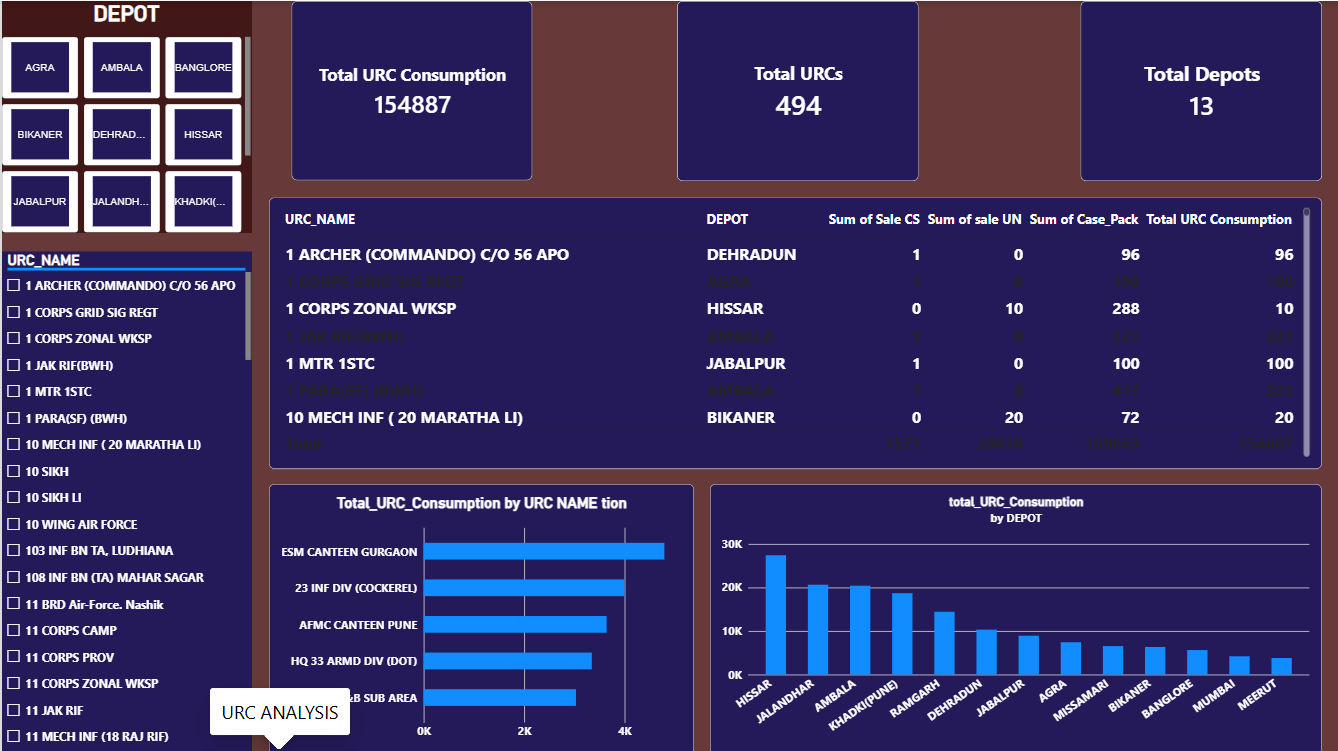

This screenshot's page, from the dashboard's own definition file:
{"tool":"powerbi","page":{"name":"URC ANALYSIS","canvas":[1920,1080],"ordinal":1},"visuals":[{"type":"clusteredBarChart","title":"Total_URC_Consumption by URC NAME tion","fields":{"Category":["URC_Distribution_Data.URC_NAME"],"Y":["URC_Distribution_Data.total_URC_Consumption"]},"box":[381.6,692.7,608.7,388.4],"z":0},{"type":"clusteredColumnChart","fields":{"Category":["URC_Distribution_Data.DEPOT"],"Y":["URC_Distribution_Data.total_URC_Consumption"]},"box":[1014.8,691.7,875.9,388.3],"z":1},{"type":"cardVisual","fields":{"Data":["URC_Distribution_Data.Total URC Consumption"]},"box":[413.9,0,345.8,258],"z":2},{"type":"cardVisual","fields":{"Data":["URC_Distribution_Data.Total URCs"]},"box":[966.6,0,346,258],"z":3},{"type":"cardVisual","fields":{"Data":["URC_Distribution_Data.Total Depots"]},"box":[1544.9,0,346,258],"z":4},{"type":"tableEx","fields":{"Values":["URC_Distribution_Data.URC_NAME","URC_Distribution_Data.DEPOT","Sum(URC_Distribution_Data.Sale CS)","Sum(URC_Distribution_Data.sale UN)","Sum(URC_Distribution_Data.Case_Pack)","URC_Distribution_Data.Total URC Consumption"]},"box":[381.6,281.6,1508.1,388.4],"z":5},{"type":"advancedSlicerVisual","fields":{"Values":["URC_Distribution_Data.DEPOT"]},"box":[0,0,356.6,331.6],"z":6},{"type":"slicer","fields":{"Values":["URC_Distribution_Data.URC_NAME"]},"box":[0,358.9,356.6,722.3],"z":7}]}

Visuals, with their boxes in screenshot pixels (x1, y1, x2, y2), scaled from the page's 1920x1080 canvas onto the 1338x751 screenshot:
"Total_URC_Consumption by URC NAME tion" clusteredBarChart: bbox=[266, 482, 690, 750]
clusteredColumnChart - URC_Distribution_Data.DEPOT x URC_Distribution_Data.total_URC_Consumption: bbox=[707, 481, 1318, 750]
cardVisual - URC_Distribution_Data.Total URC Consumption: bbox=[288, 0, 529, 179]
cardVisual - URC_Distribution_Data.Total URCs: bbox=[674, 0, 915, 179]
cardVisual - URC_Distribution_Data.Total Depots: bbox=[1077, 0, 1318, 179]
tableEx - URC_Distribution_Data.URC_NAME x URC_Distribution_Data.DEPOT: bbox=[266, 196, 1317, 466]
advancedSlicerVisual - URC_Distribution_Data.DEPOT: bbox=[0, 0, 249, 231]
slicer - URC_Distribution_Data.URC_NAME: bbox=[0, 250, 249, 750]
